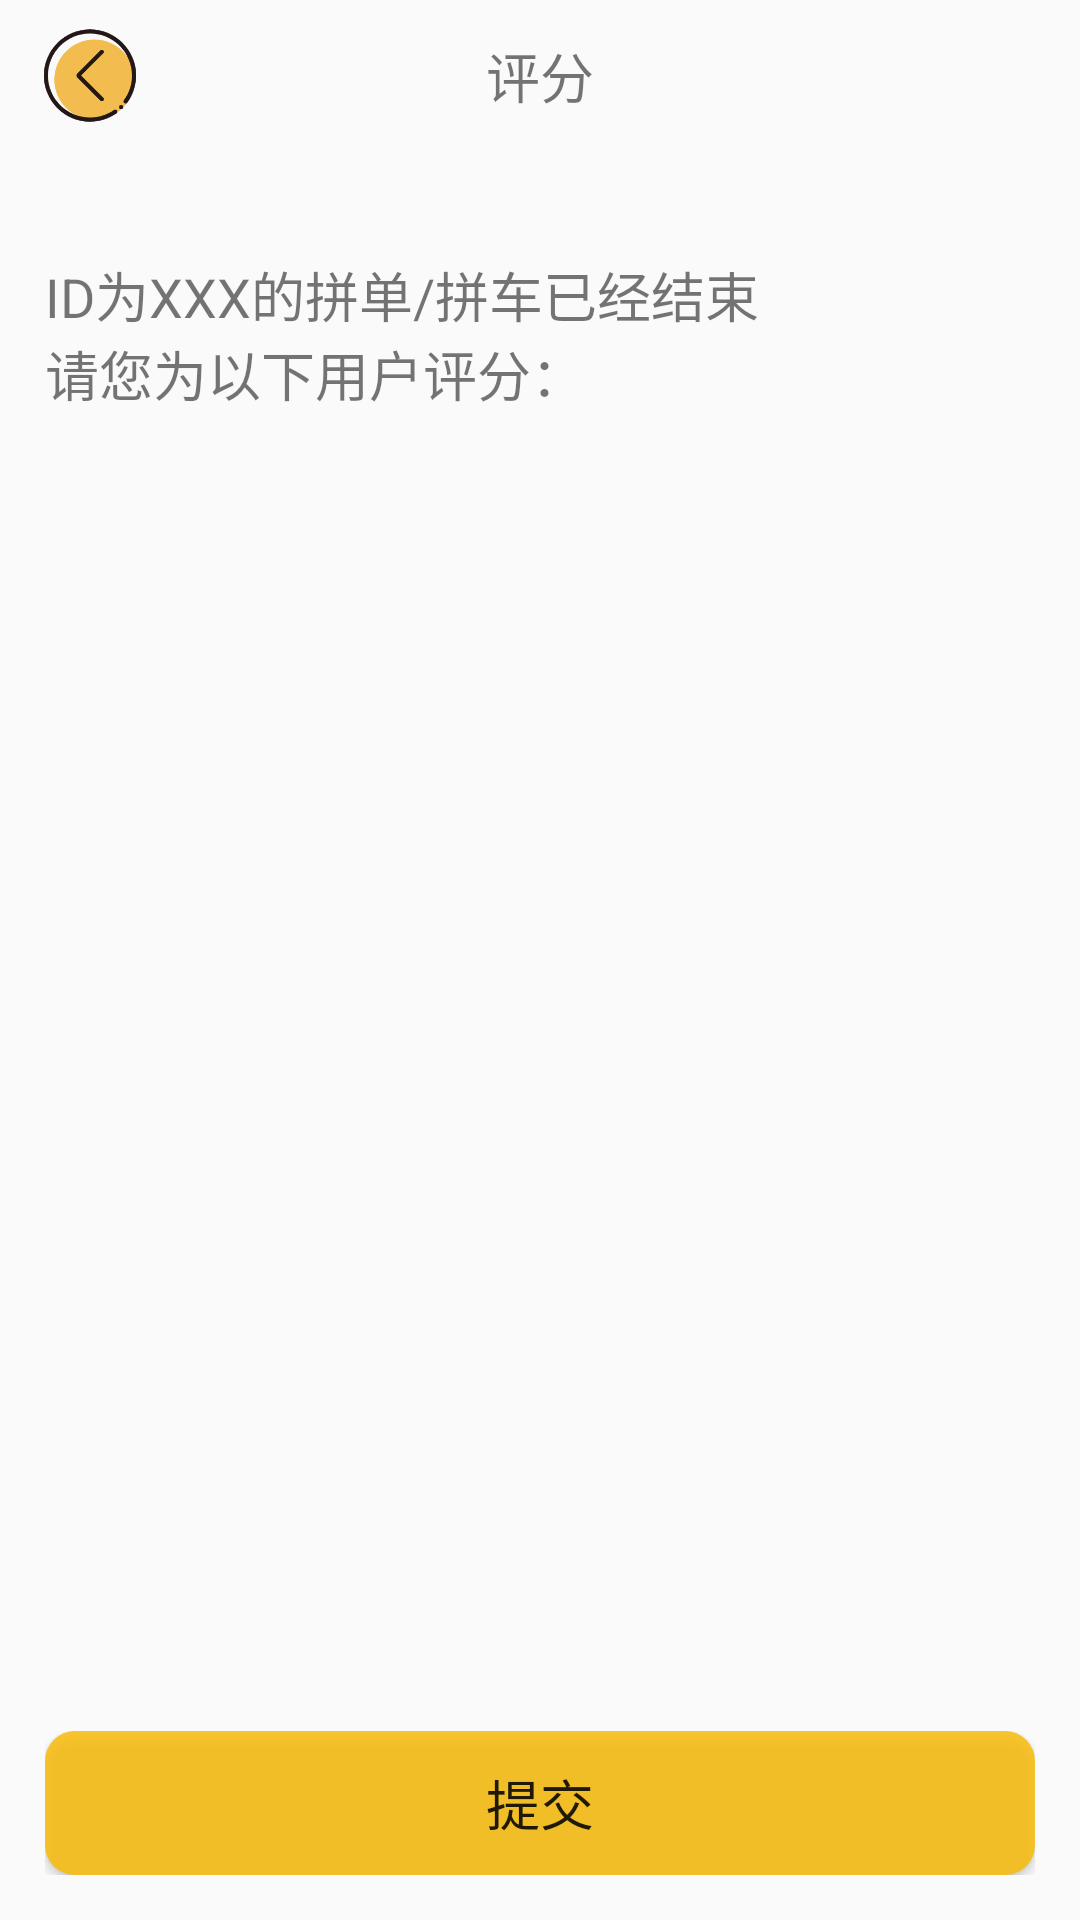

Icons on this 1080px×1920px Android screen, each with its box as box=[x1, y1, x2, y2]:
fanhui: box=[44, 29, 136, 122]
